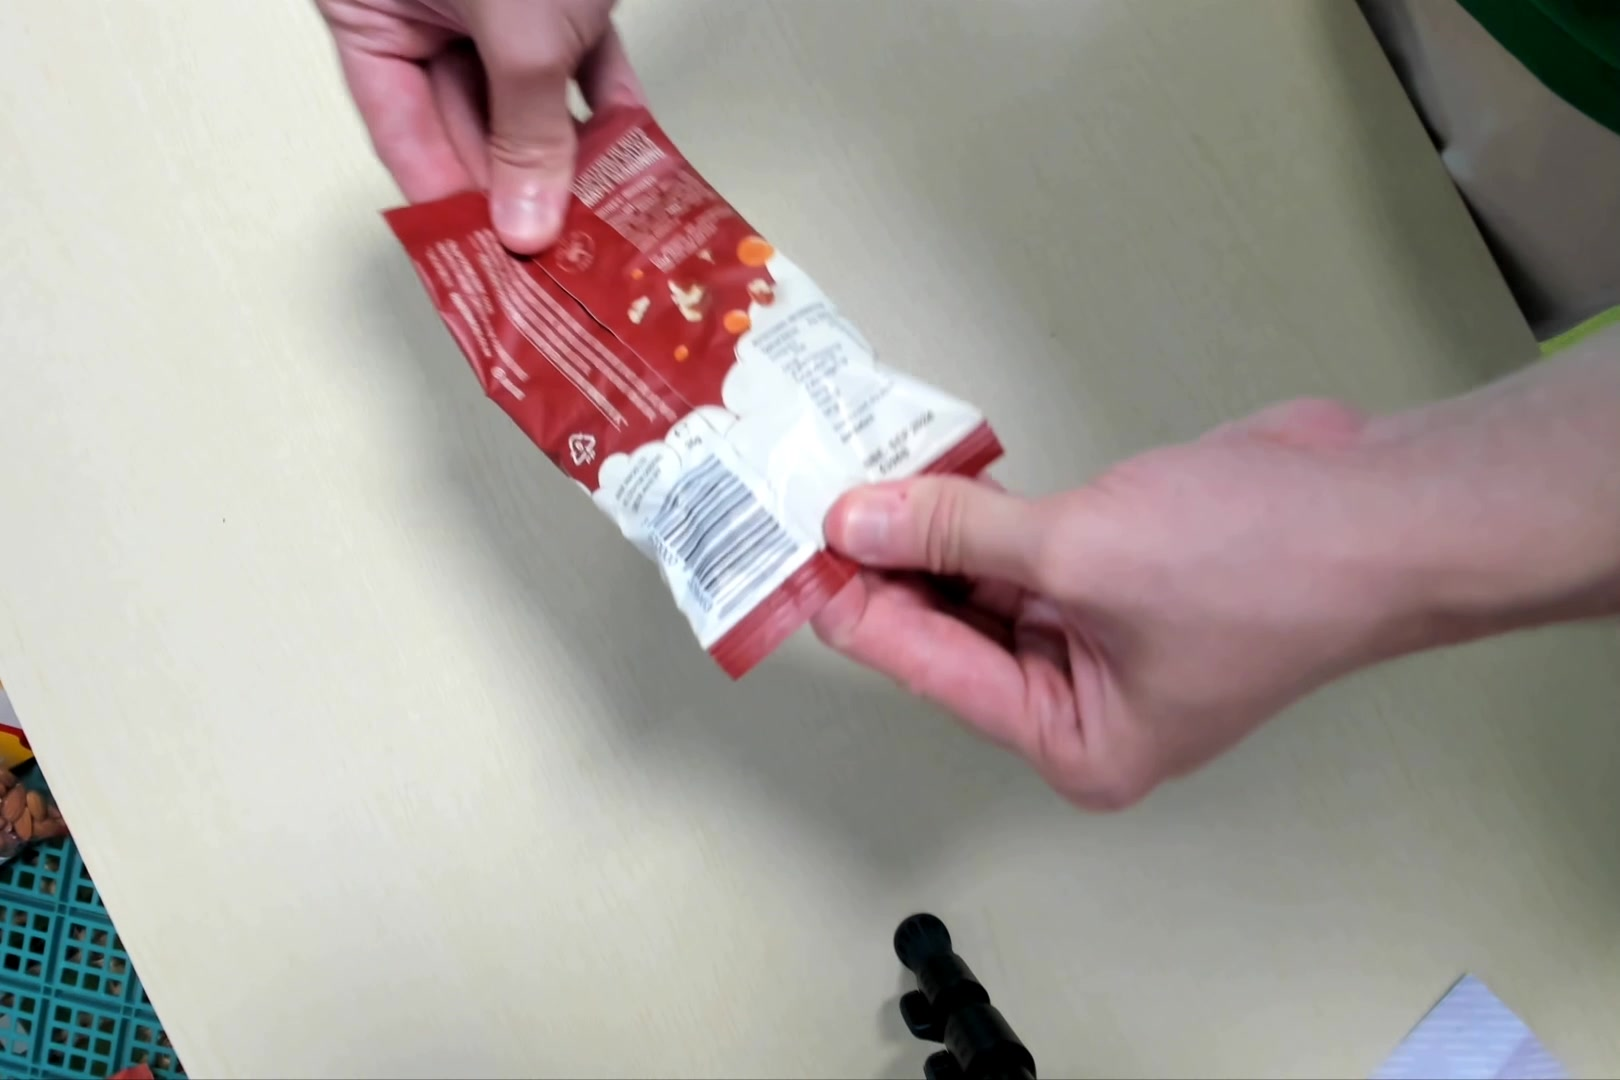Nuts_0-99g_NonHalal_NonHealthy: (392, 129, 998, 662)
